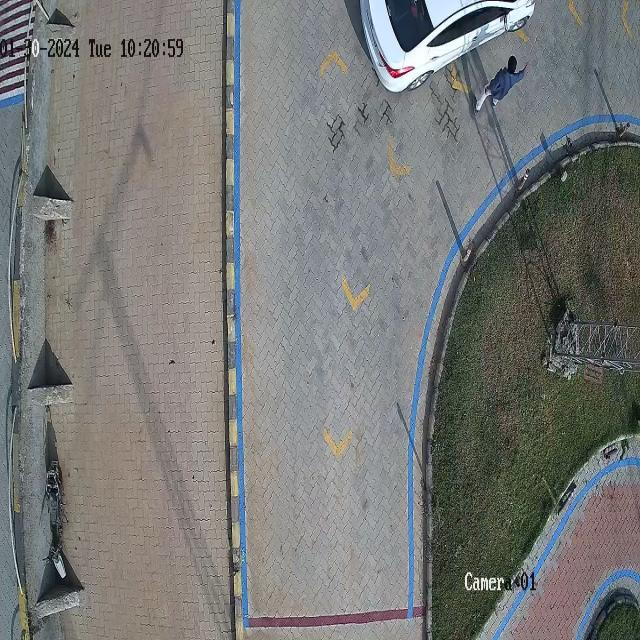car: (361, 0, 535, 93)
